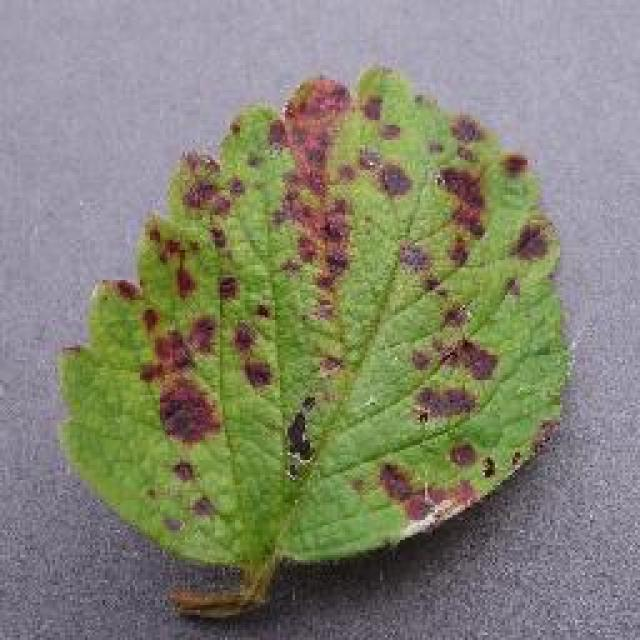Strawberry___Leaf_scorch: (94, 94, 554, 528)
